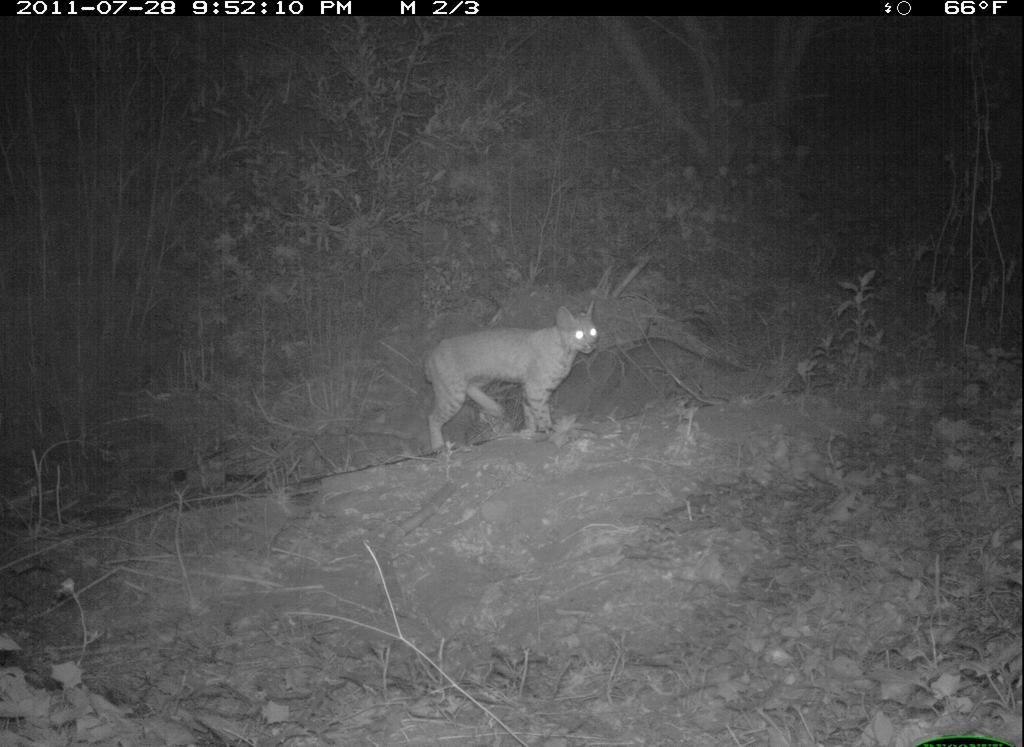bobcat: (399, 287, 616, 461)
